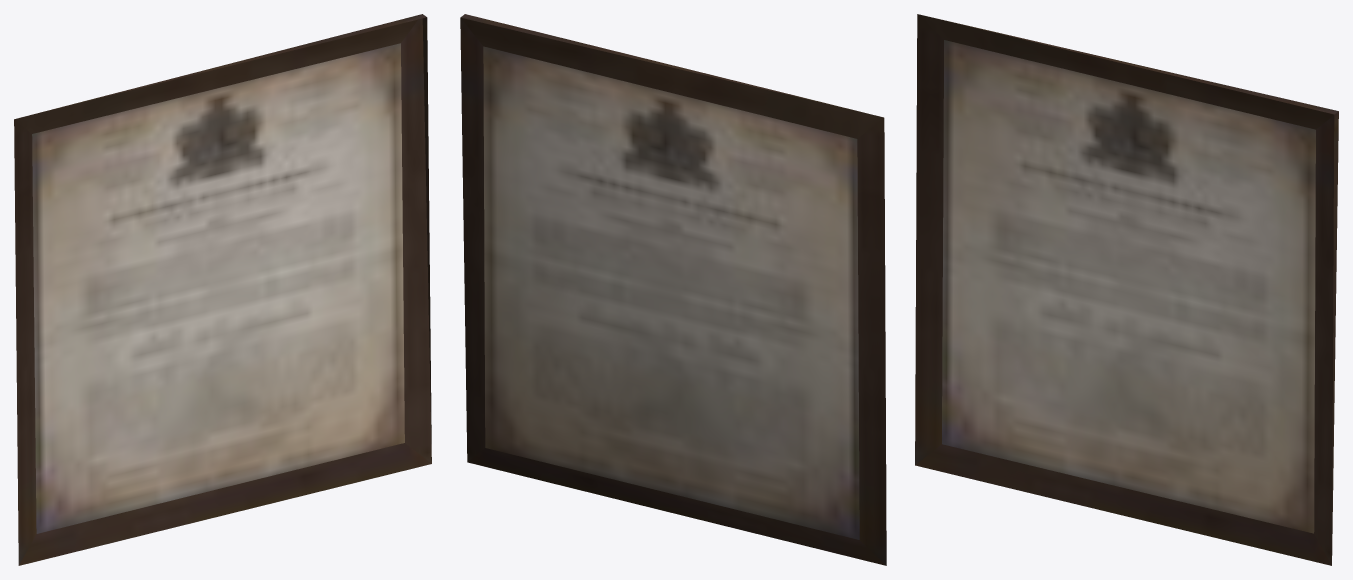
Rendered from certificate-2.lod1.glb.
The picture shows the model from 3 angles, left to right: view 1: azimuth 30°, elevation 25°; view 2: azimuth 150°, elevation 25°; view 3: azimuth 330°, elevation 25°; orthographic projection.
Parts seen in each view (by area): view 1: certificate-2; view 2: certificate-2; view 3: certificate-2.
Boxes of the visible parts, bbox=[...] form: certificate-2: bbox=[14, 14, 431, 565]; certificate-2: bbox=[460, 14, 886, 565]; certificate-2: bbox=[915, 14, 1338, 565].
Size of the model in its own units: 0.2679 by 0.2754 by 0.00906.
Materials: 1 (1 with a texture image).
